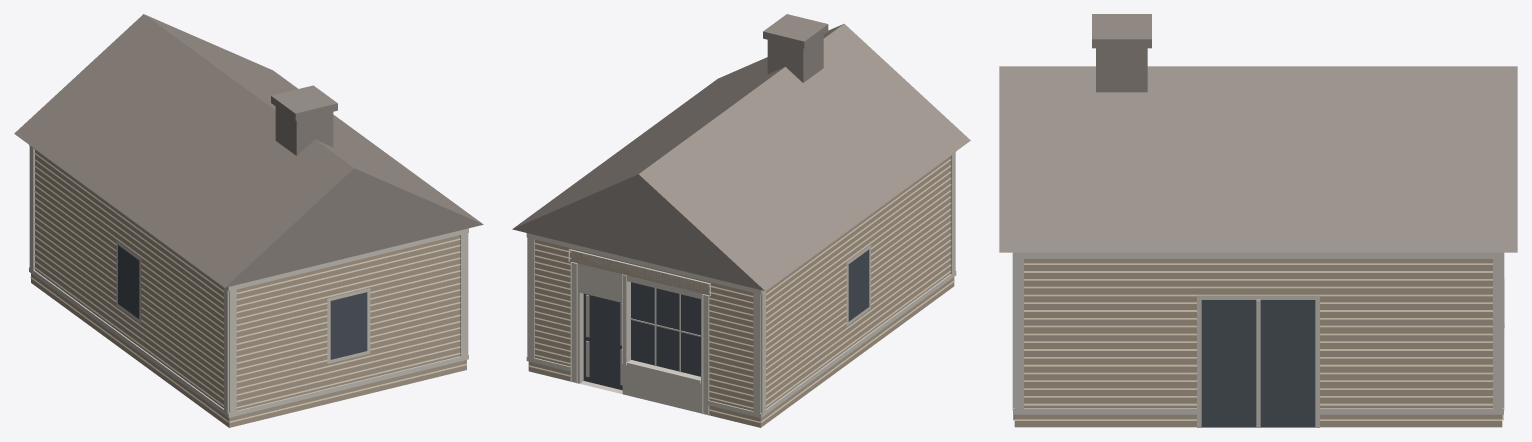
Rendered from recon_1835_north_c1_020__inferred_1835.glb.
3 views of the same model, side by side, from view 1: azimuth 30°, elevation 25°; view 2: azimuth 150°, elevation 25°; view 3: azimuth 270°, elevation 25° (orthographic). The views are drawn at different scales.
Parts seen in each view (by area): view 1: recon_1835_north_c1_020__inferred_1835; view 2: recon_1835_north_c1_020__inferred_1835; view 3: recon_1835_north_c1_020__inferred_1835.
Boxes of the visible parts, x1,y1,x2,y2 form: recon_1835_north_c1_020__inferred_1835: (14, 14, 483, 427); recon_1835_north_c1_020__inferred_1835: (512, 14, 970, 427); recon_1835_north_c1_020__inferred_1835: (999, 14, 1517, 427).
Bounding box in the file's own units: 5.99 × 5.9 × 8.43.
